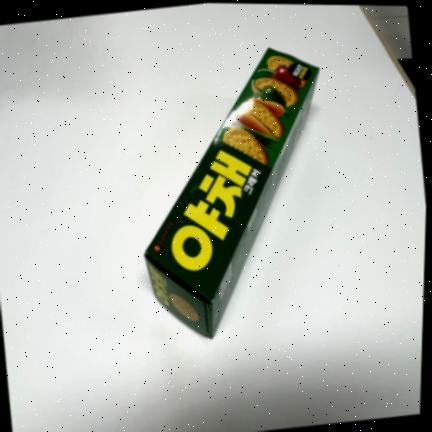cracker_vege: (144, 45, 319, 338)
